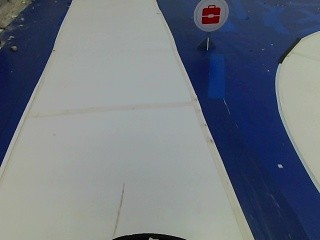company: (190, 0, 229, 31)
